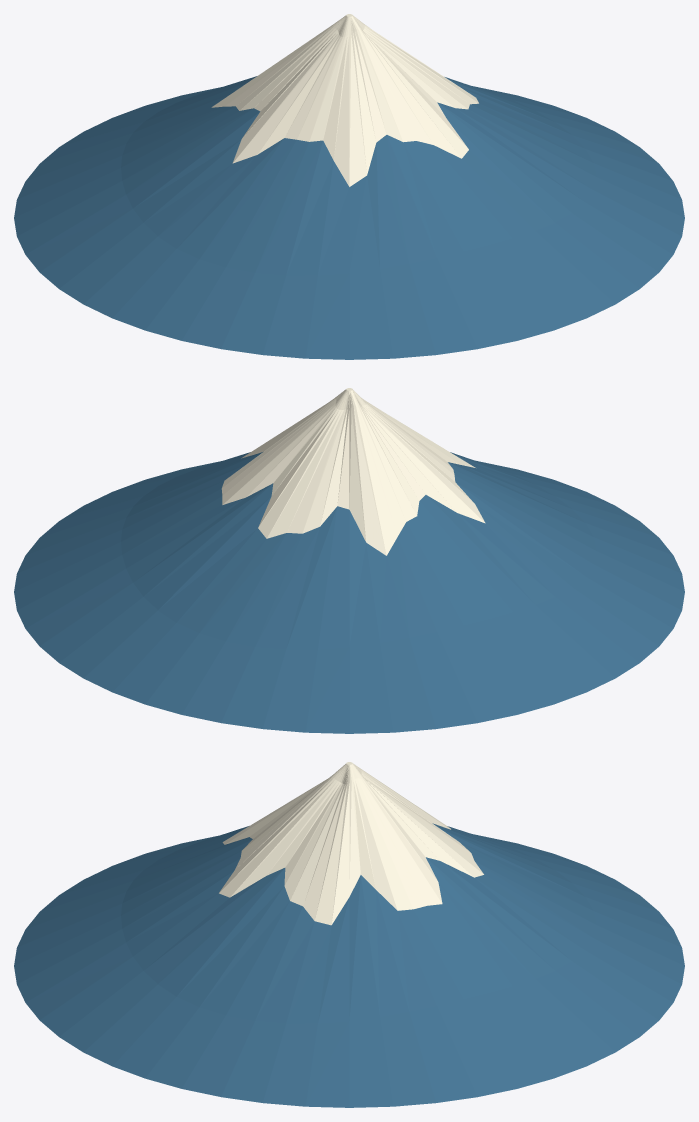
Rendered from fuji_blockout.fbx.
3 renders of one model, top to bottom at view 1: azimuth 30°, elevation 25°; view 2: azimuth 150°, elevation 25°; view 3: azimuth 270°, elevation 25°, orthographic.
Parts seen in each view (by area): view 1: Fuji_Mountain; view 2: Fuji_Mountain; view 3: Fuji_Mountain.
Part boxes in pixels (x1,y1,x2,y2): Fuji_Mountain: (14,14,684,359); Fuji_Mountain: (14,388,684,733); Fuji_Mountain: (14,762,684,1107).
Size of the model in its own units: 24 by 8 by 24.
